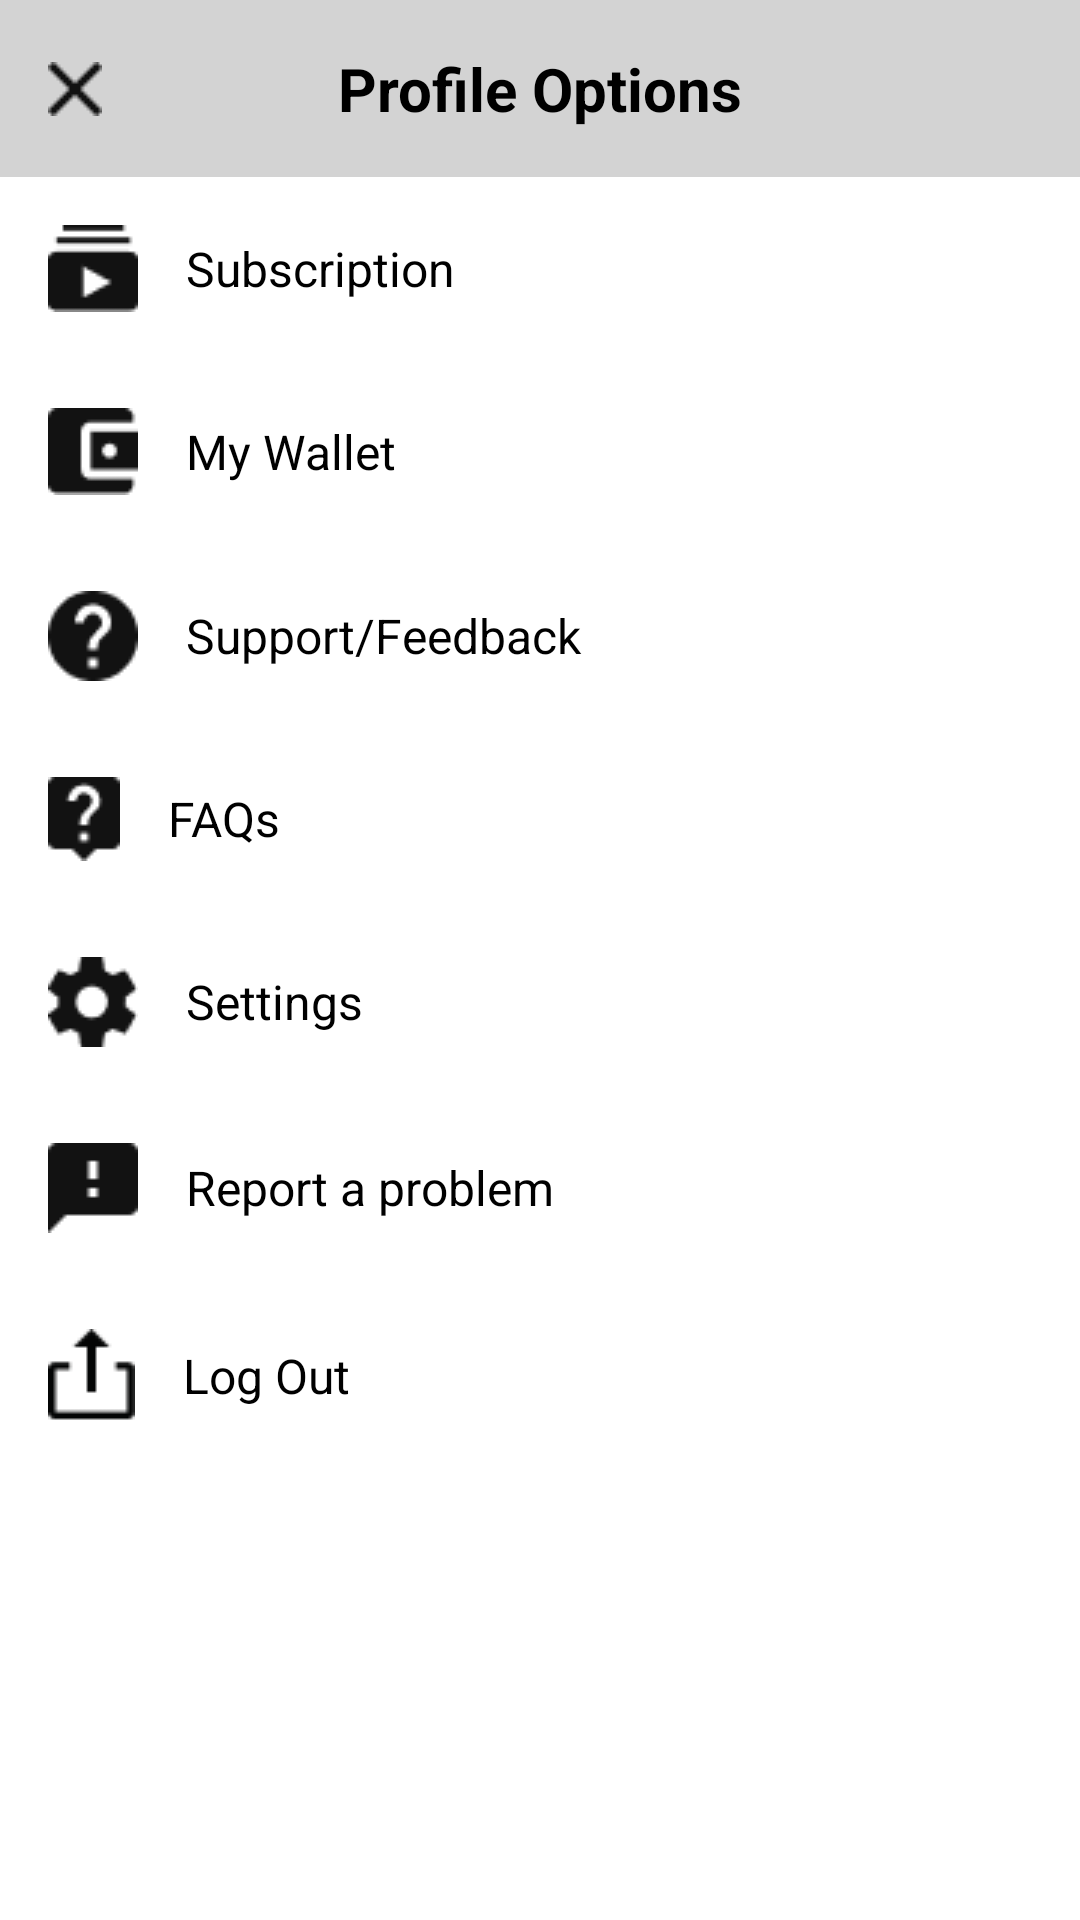

Named icons in this screenshot (1080 x 1920) and their bounding boxes, BBox(x1, y1, x2, y2):
close: BBox(48, 62, 102, 116)
